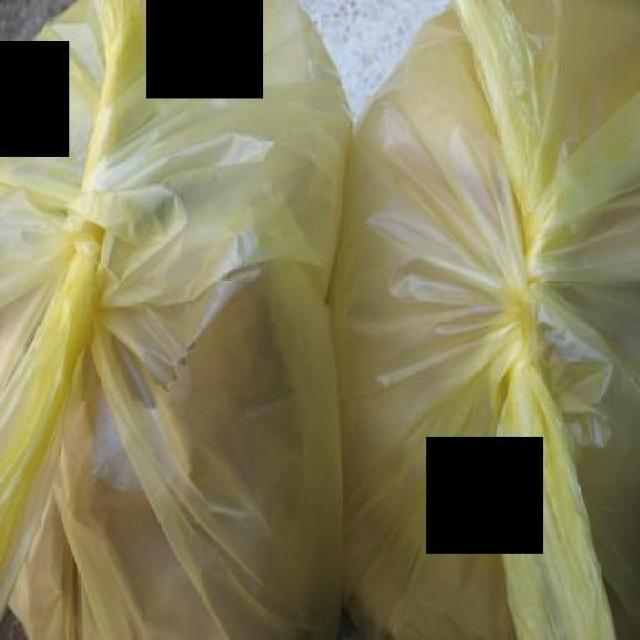plastic bag: (0, 0, 343, 638), (333, 0, 638, 638)
